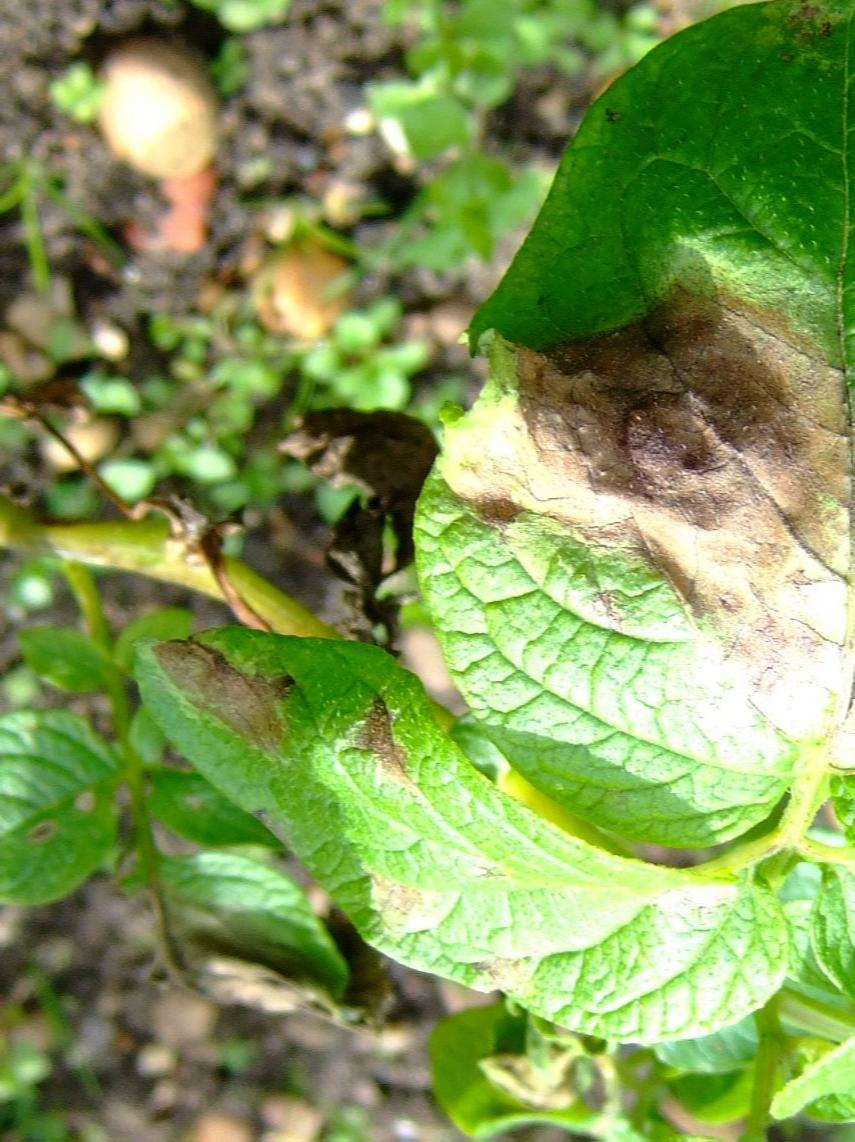Tomato leaf late blight: (415, 19, 855, 876)
